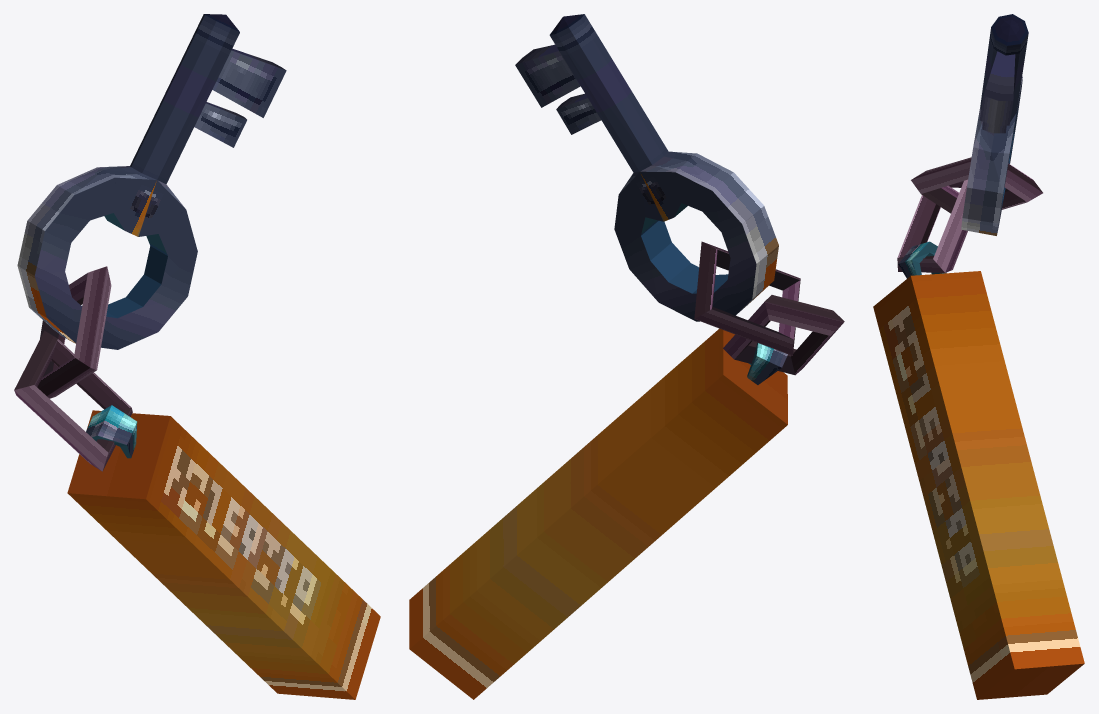
The model's file is room_key.glb.
The picture shows the model from 3 angles, left to right: view 1: azimuth 30°, elevation 25°; view 2: azimuth 150°, elevation 25°; view 3: azimuth 270°, elevation 25°; orthographic projection. The views are drawn at different scales.
Parts seen in each view (by area): view 1: Original MM3D Room Key; view 2: Original MM3D Room Key; view 3: Original MM3D Room Key.
Boxes of the visible parts, x1=… form: Original MM3D Room Key: x1=14, y1=14, x2=380, y2=699; Original MM3D Room Key: x1=409, y1=14, x2=844, y2=699; Original MM3D Room Key: x1=873, y1=14, x2=1084, y2=699.
Bounding box in the file's own units: 26.97 × 45.01 × 13.49.
Materials: 1 (1 with a texture image).
